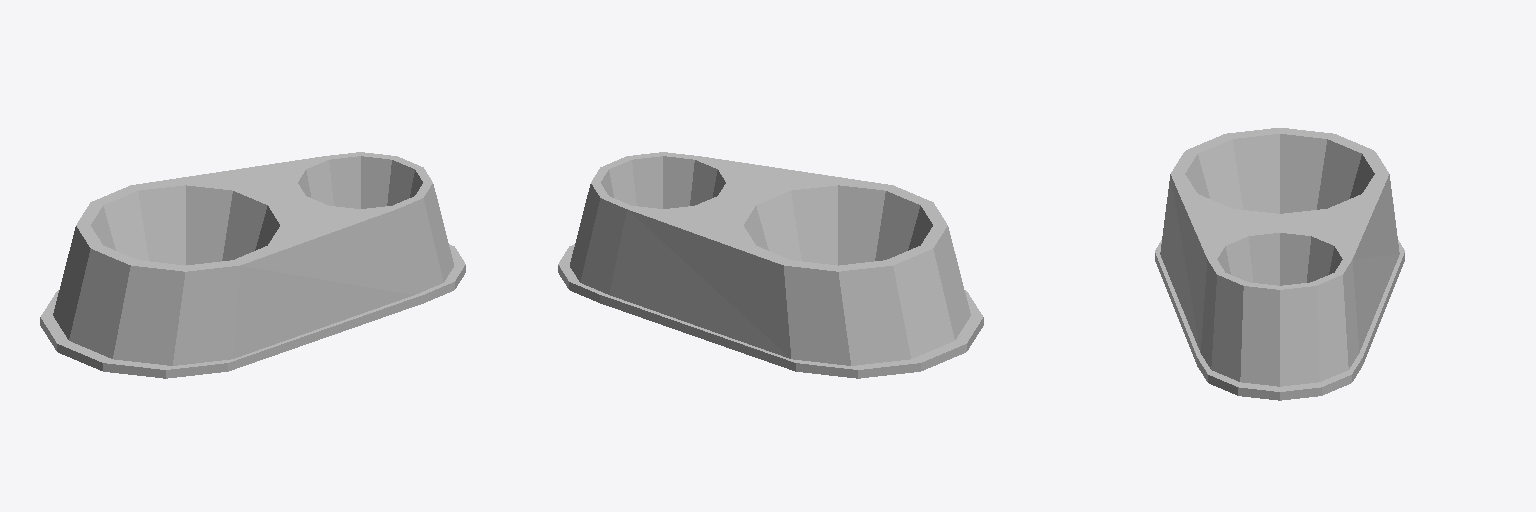
The model's file is DoubleBowl.obj.
3 renders of one model, left to right at view 1: azimuth 30°, elevation 25°; view 2: azimuth 150°, elevation 25°; view 3: azimuth 270°, elevation 25°, orthographic.
Visible parts, largest first — view 1: Circle; view 2: Circle; view 3: Circle.
Part boxes in pixels (left/top/right/bottom): Circle: left=40, top=152, right=465, bottom=378; Circle: left=558, top=152, right=983, bottom=378; Circle: left=1155, top=128, right=1404, bottom=400.
Bounding box in the file's own units: 1.13 × 0.2589 × 0.6155.